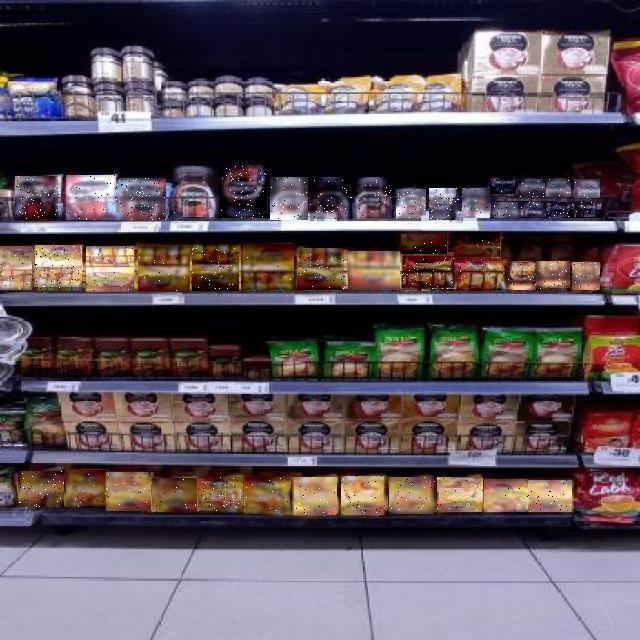Coffee: (219, 165, 267, 218), (241, 245, 294, 291), (173, 168, 219, 220), (138, 246, 190, 291), (66, 175, 116, 220), (192, 244, 239, 291), (86, 246, 134, 292), (116, 178, 166, 220), (348, 252, 400, 292), (35, 246, 82, 290), (298, 248, 346, 290), (16, 176, 60, 219), (342, 476, 388, 515), (403, 256, 455, 290), (106, 472, 151, 511), (310, 178, 352, 219), (390, 477, 436, 514), (245, 477, 290, 514), (18, 471, 64, 507), (353, 178, 393, 219), (270, 177, 308, 220), (294, 477, 337, 515), (198, 477, 244, 512), (437, 477, 483, 512), (456, 258, 506, 290), (66, 470, 108, 508), (152, 479, 197, 513), (484, 479, 528, 512), (0, 246, 32, 290), (528, 480, 572, 512), (455, 232, 501, 257), (430, 189, 460, 221), (536, 262, 570, 290), (401, 234, 447, 254), (396, 190, 426, 220), (462, 188, 490, 218), (509, 262, 537, 290), (572, 262, 600, 290), (574, 179, 600, 198), (518, 180, 545, 198), (546, 178, 571, 197), (546, 202, 574, 218), (490, 178, 516, 194), (576, 202, 602, 218), (521, 202, 545, 218), (494, 202, 518, 218)
